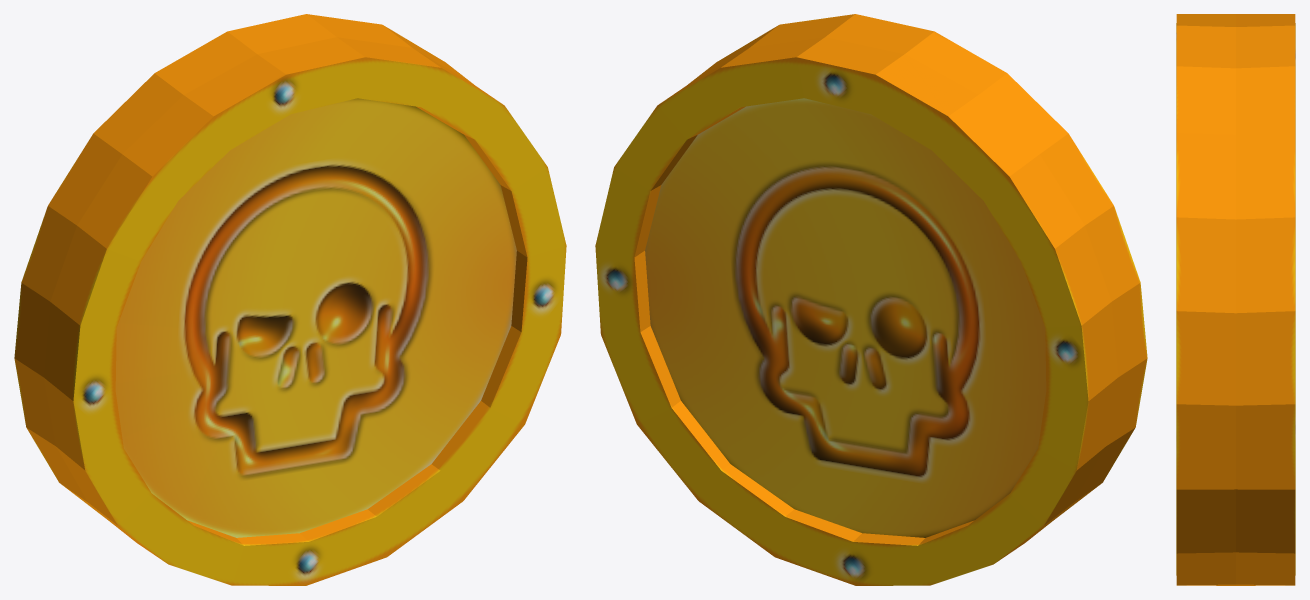
The model's file is para.fbx.
3 views of the same model, side by side, from view 1: azimuth 30°, elevation 25°; view 2: azimuth 150°, elevation 25°; view 3: azimuth 270°, elevation 25° (orthographic).
Visible parts, largest first — view 1: coinlowpoly; view 2: coinlowpoly; view 3: coinlowpoly.
Part boxes in pixels (box(x1,y1,x2,y2)): coinlowpoly: box(14, 14, 566, 585); coinlowpoly: box(595, 14, 1147, 585); coinlowpoly: box(1176, 14, 1295, 585).
Size of the model in its own units: 399 by 401 by 83.28.
